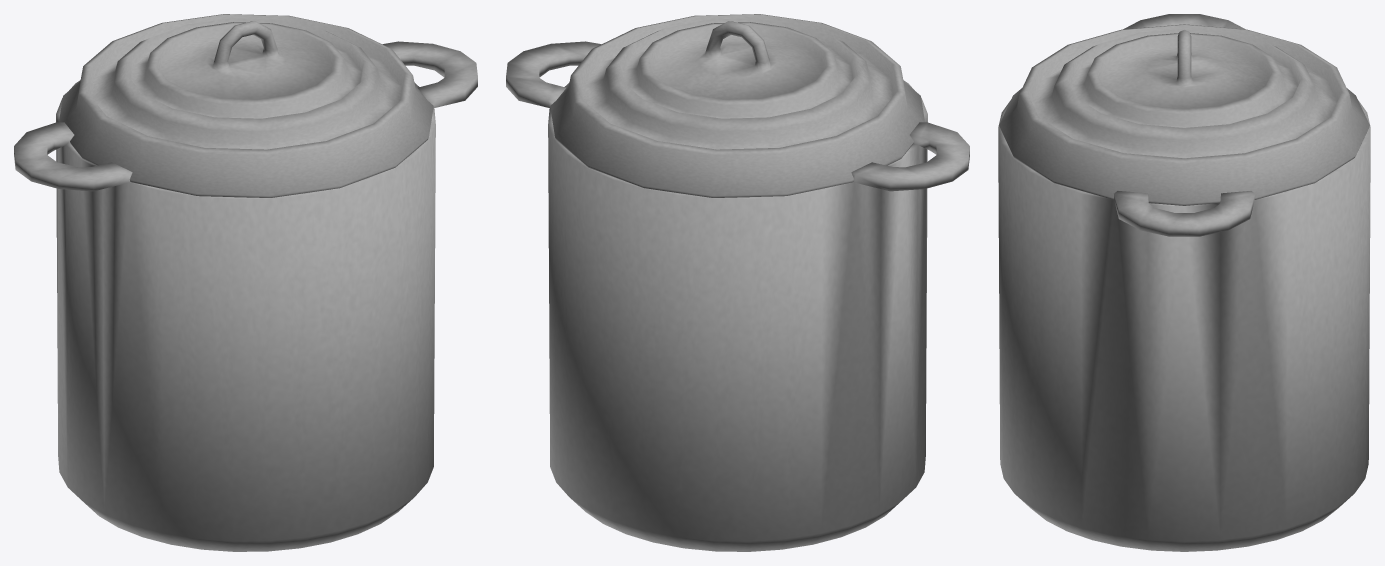
File: cookingpot_002.glb
3 views of the same model, side by side, from view 1: azimuth 30°, elevation 25°; view 2: azimuth 150°, elevation 25°; view 3: azimuth 270°, elevation 25° (orthographic). The views are drawn at different scales.
Parts seen in each view (by area): view 1: cookingpot.002, cookingpot.005; view 2: cookingpot.002, cookingpot.005; view 3: cookingpot.002, cookingpot.005.
Boxes of the visible parts, x1,y1,x2,y2 form: cookingpot.002: (14,41,477,551); cookingpot.005: (59,14,433,197); cookingpot.002: (506,41,969,551); cookingpot.005: (550,14,924,197); cookingpot.002: (998,14,1370,551); cookingpot.005: (999,24,1369,205).
Size of the model in its own units: 1.16 by 1.14 by 0.8571.
Materials: 1 (1 with a texture image).
